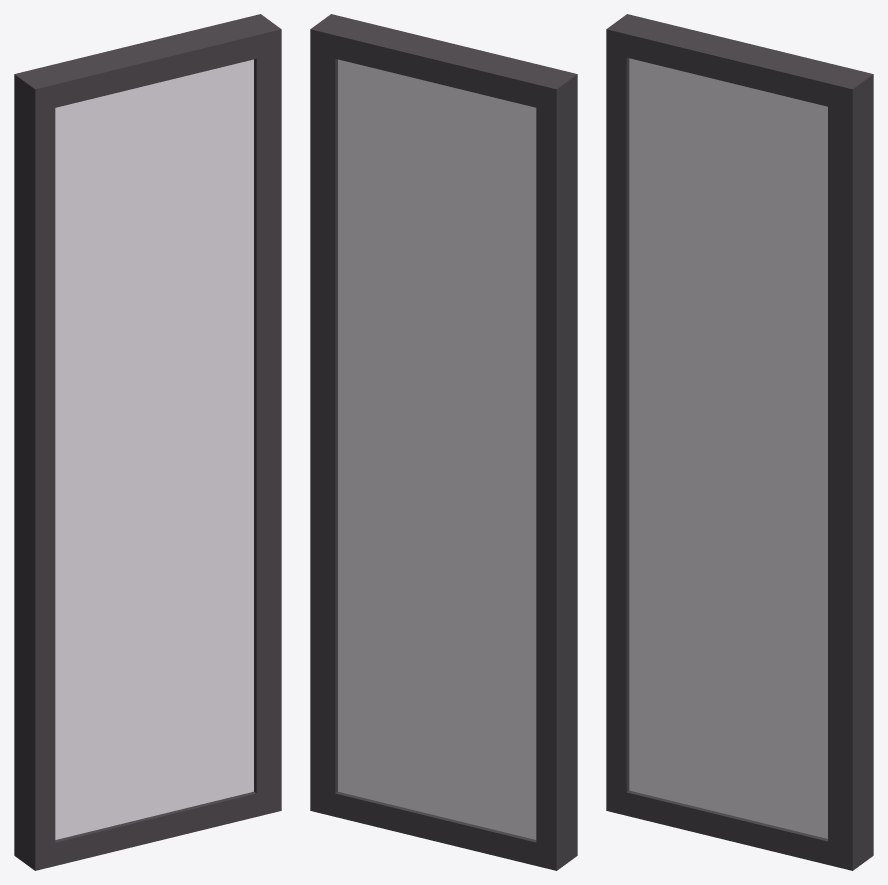
The model's file is KA_porte_coulissante_GAUCHE.fbx.
The picture shows the model from 3 angles, left to right: view 1: azimuth 30°, elevation 25°; view 2: azimuth 150°, elevation 25°; view 3: azimuth 330°, elevation 25°; orthographic projection.
Visible parts, largest first — view 1: Object001; view 2: Object001; view 3: Object001.
Boxes of the visible parts, x1,y1,x2,y2 form: Object001: [14, 14, 281, 870]; Object001: [310, 14, 577, 870]; Object001: [606, 14, 873, 870].
Size of the model in its own units: 35.67 by 108 by 5.23.
